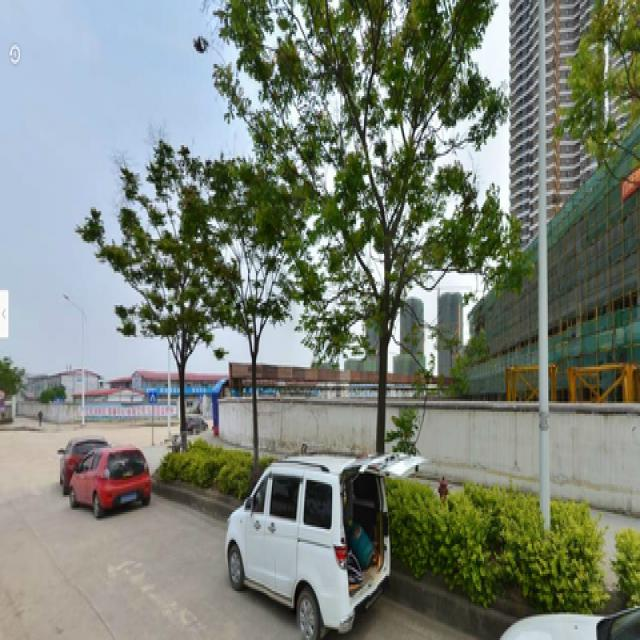koel: (295, 19, 481, 514), (217, 160, 288, 465), (137, 156, 208, 437)
